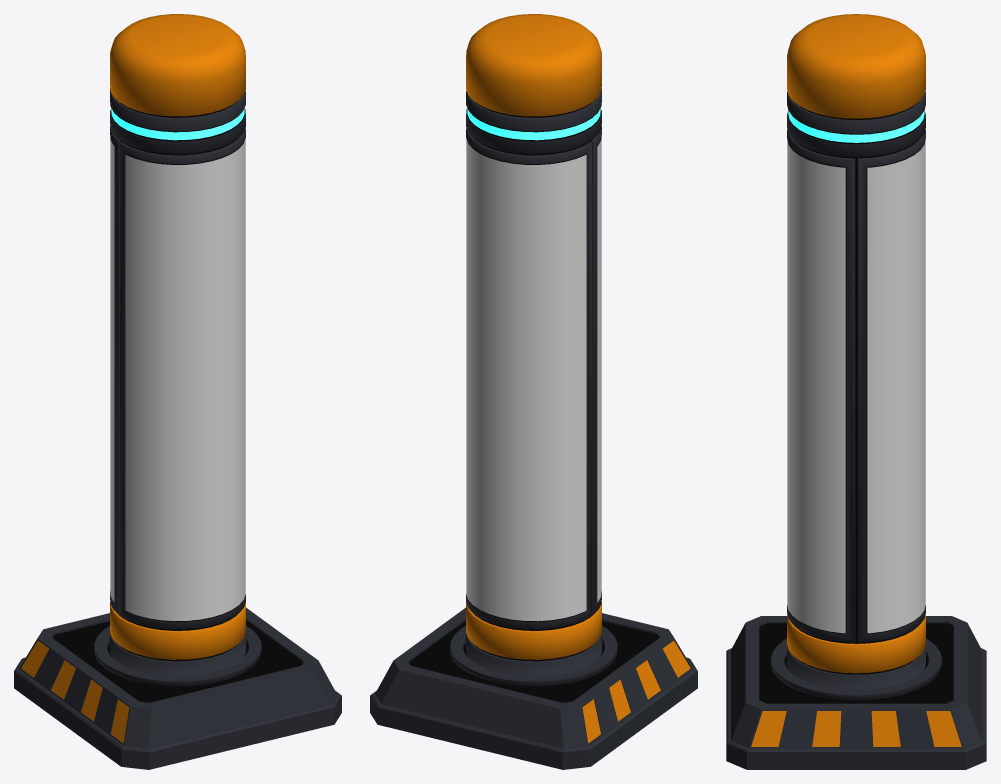
Rendered from SM_Short_Post.fbx.
3 renders of one model, left to right at view 1: azimuth 30°, elevation 25°; view 2: azimuth 150°, elevation 25°; view 3: azimuth 270°, elevation 25°, orthographic. The views are drawn at different scales.
Parts seen in each view (by area): view 1: SM_Short_Post; view 2: SM_Short_Post; view 3: SM_Short_Post.
Part boxes in pixels (box(x1,y1,x2,y2)): SM_Short_Post: box(14, 14, 341, 769); SM_Short_Post: box(370, 14, 697, 769); SM_Short_Post: box(726, 14, 986, 769).
Bounding box in the file's own units: 20 × 57.58 × 20.
